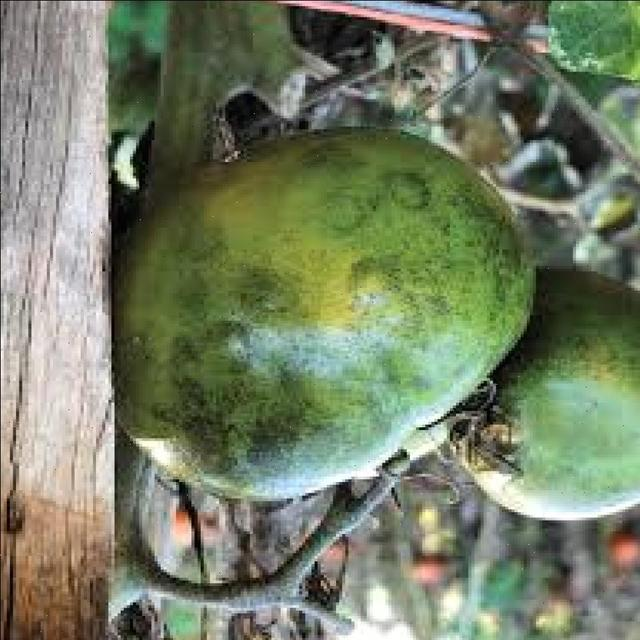Spotted wilt Virus Fruit: (86, 108, 427, 193)
